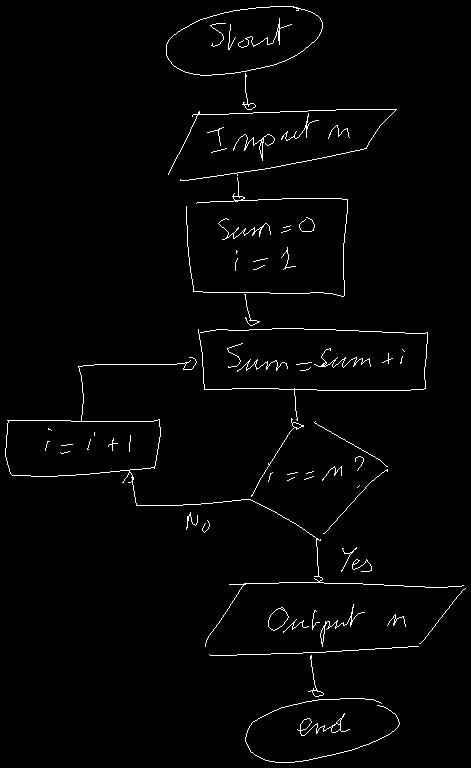arrow: (78, 357, 196, 421), (122, 471, 249, 505), (308, 655, 323, 696), (291, 388, 303, 428), (242, 73, 255, 109), (244, 294, 259, 325), (314, 538, 322, 581), (232, 174, 244, 201)
data: (205, 582, 465, 655), (168, 109, 396, 180)
decision: (246, 421, 387, 540)
process: (186, 198, 347, 296), (198, 328, 427, 390), (5, 419, 160, 476)
terminator: (166, 6, 322, 75), (245, 698, 399, 762)
text: (207, 113, 349, 160), (268, 604, 405, 646), (218, 217, 314, 270), (227, 343, 404, 371), (268, 456, 363, 487), (210, 18, 291, 49), (45, 428, 130, 453), (297, 713, 349, 735), (341, 547, 371, 571), (186, 512, 209, 532)
